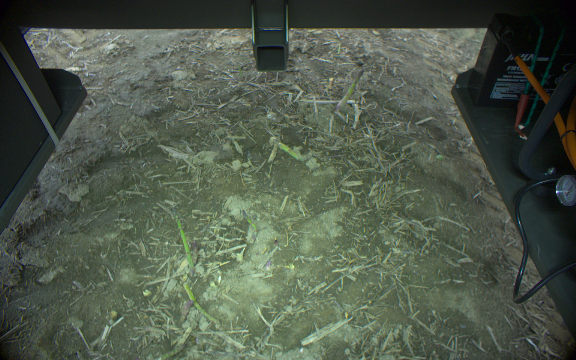aspa: (178, 276, 222, 329), (167, 203, 195, 275), (334, 69, 360, 112), (272, 140, 303, 163), (177, 296, 198, 322)
